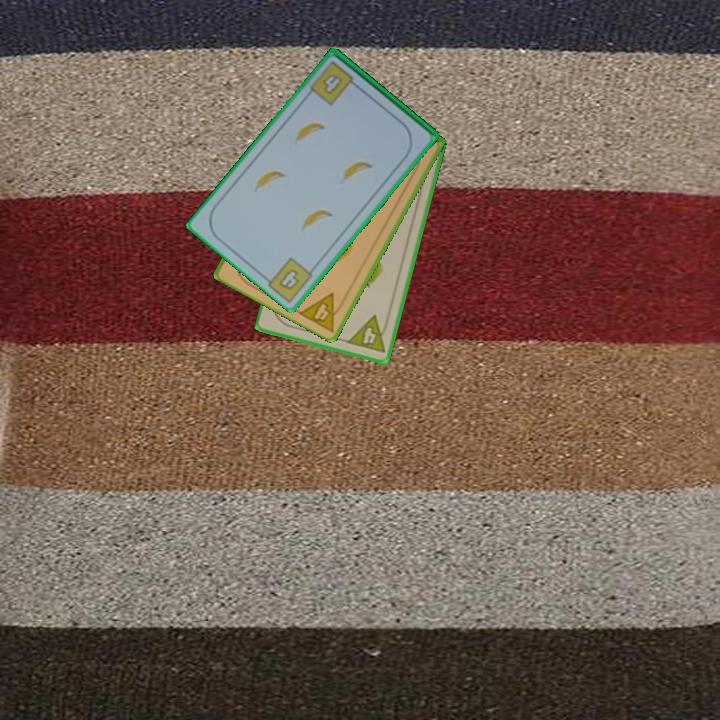4b: (308, 58, 362, 108), (275, 265, 302, 293)
4p: (295, 289, 349, 335), (344, 312, 392, 356)
